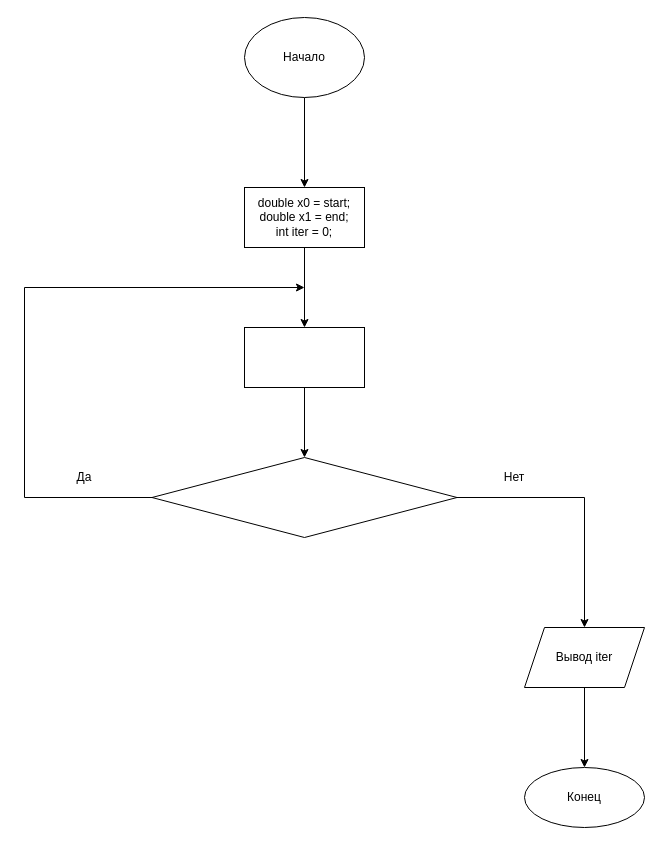
Some shapes in this 662 by 845 pixel diagram are drawn without their labels. The centre of each missing label's shape, as x and y in pixels:
"abs(x1 - x0) < eps && iter < MAX_ITER" belongs at point 304,497.
"x1 = f(x0); x0 = x1; iter++;" belongs at point 304,357.
